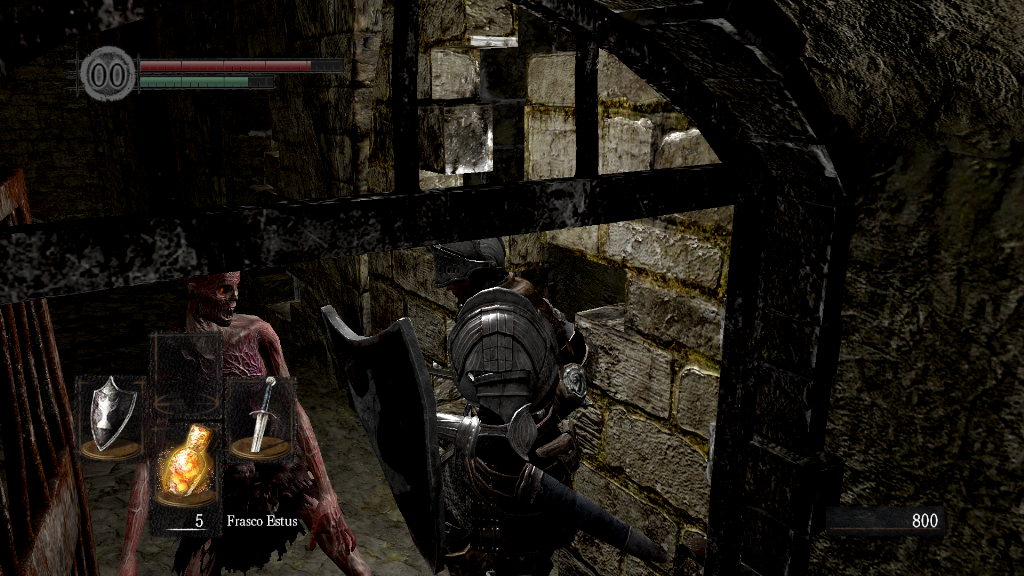health: (138, 58, 343, 71)
hollow: (118, 268, 377, 576)
humanity: (80, 45, 136, 102)
player: (321, 236, 677, 576)
souls: (825, 506, 945, 536)
stamina: (138, 74, 274, 88)
